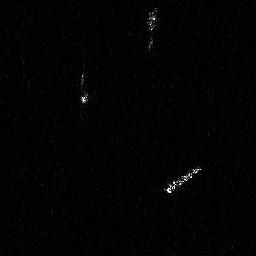ship: (163, 165, 201, 194), (145, 7, 157, 52), (78, 67, 89, 106)
